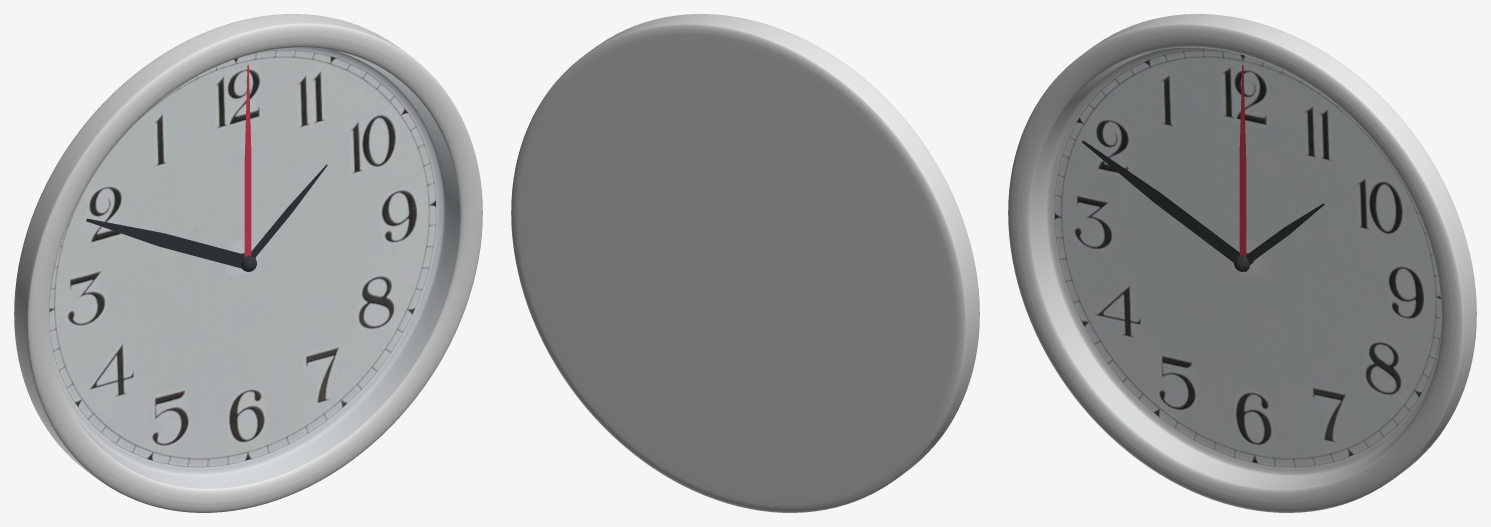
File: Clock.glb
3 views of the same model, side by side, from view 1: azimuth 30°, elevation 25°; view 2: azimuth 150°, elevation 25°; view 3: azimuth 330°, elevation 25° (orthographic).
Visible parts, largest first — view 1: Cylinder, Plane, sekunde, Plane.001; view 2: Cylinder; view 3: Cylinder, Plane, sekunde, Plane.001.
Boxes of the visible parts, x1,y1,x2,y2 form: Cylinder: (14, 14, 482, 512); Plane: (86, 218, 255, 268); sekunde: (244, 65, 251, 257); Plane.001: (251, 164, 327, 257); Cylinder: (511, 14, 979, 512); Cylinder: (1008, 14, 1476, 512); Plane: (1082, 140, 1251, 271); sekunde: (1239, 65, 1246, 257); Plane.001: (1246, 203, 1324, 261).
Bounding box in the file's own units: 0.3138 × 0.3138 × 0.02.
Materials: 5 (1 with a texture image).
